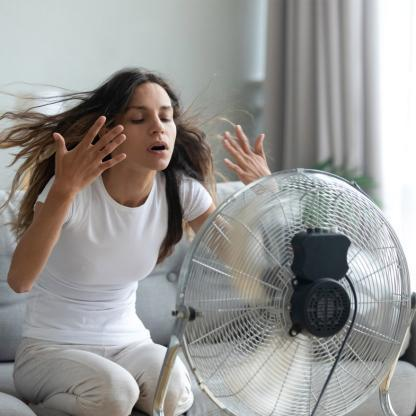fan: (171, 180, 416, 416)
